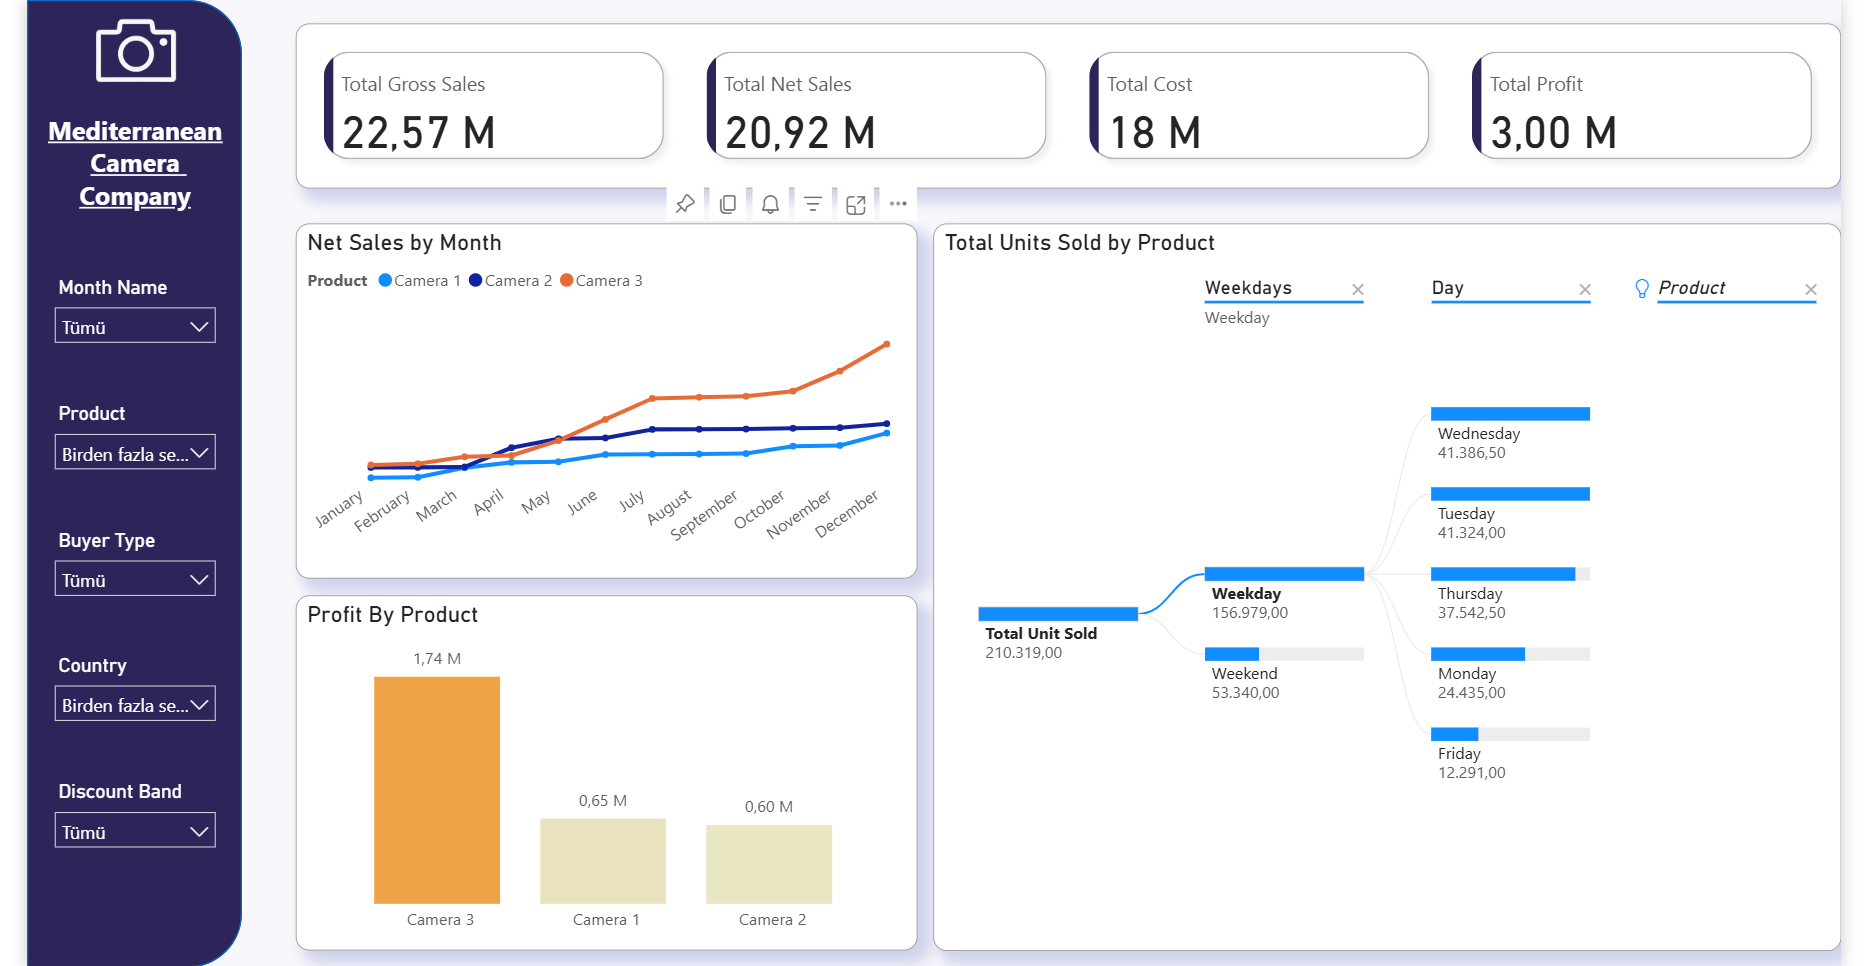

The dashboard page shown, as its layout file describes it:
{"tool":"powerbi","page":{"name":"Detail View","canvas":[1350,720],"ordinal":1},"visuals":[{"type":"shape","box":[0,0,160,720],"z":0},{"type":"cardVisual","fields":{"Data":["Measure_.Total Gross Sales","Measure_.Total Net Sales","Measure_.Total Cost","Measure_.Total Profit"]},"box":[200,17.1,1150,122.9],"z":1000},{"type":"lineChart","title":"Net Sales by Month","fields":{"Category":["Calendar.Date.Variation.Date Hierarchy.Month"],"Y":["Measure_.Net Sales YTD"],"Series":["Mediterranean Cameras Company.Product"]},"box":[200,165.7,462.9,264.3],"z":2000},{"type":"columnChart","title":"Profit By Product","fields":{"Category":["Mediterranean Cameras Company.Product"],"Y":["Measure_.Total Profit"]},"box":[200,442.9,462.9,264.3],"z":5000},{"type":"decompositionTreeVisual","title":"Total Units Sold by Product","fields":{"ExplainBy":["Calendar.Weekday - Weekend","Calendar.Day Name","Mediterranean Cameras Company.Product"],"Analyze":["Measure_.Total Unit Sold"]},"box":[674.3,165.7,675.7,541.4],"z":6000},{"type":"slicer","fields":{"Values":["Calendar.Month Name"]},"box":[10,200,140,70],"z":8000},{"type":"slicer","fields":{"Values":["Mediterranean Cameras Company.Product"]},"box":[10,293.9,140,70],"z":9000},{"type":"slicer","fields":{"Values":["Mediterranean Cameras Company.Buyer Type"]},"box":[10,387.9,140,70],"z":10000},{"type":"slicer","fields":{"Values":["Mediterranean Cameras Company.Country"]},"box":[10,481.8,140,70],"z":11000},{"type":"slicer","fields":{"Values":["Mediterranean Cameras Company.Discount Band"]},"box":[10,575.7,140,70],"z":12000},{"type":"image","box":[41.4,0,78.6,78.6],"z":13000},{"type":"textbox","box":[10,78.6,140,87.1],"z":14000}]}

Visuals, with their boxes on the page's 1350x720 design canvas (x1, y1, x2, y2). These are canvas units, not pixel positions in the 1867x966 screenshot, which may show the page scaled, cropped or inside an application window:
shape: rect(0, 0, 160, 720)
cardVisual - Measure_.Total Gross Sales x Measure_.Total Net Sales: rect(200, 17, 1350, 140)
"Net Sales by Month" lineChart: rect(200, 166, 663, 430)
"Profit By Product" columnChart: rect(200, 443, 663, 707)
"Total Units Sold by Product" decompositionTreeVisual: rect(674, 166, 1350, 707)
slicer - Calendar.Month Name: rect(10, 200, 150, 270)
slicer - Mediterranean Cameras Company.Product: rect(10, 294, 150, 364)
slicer - Mediterranean Cameras Company.Buyer Type: rect(10, 388, 150, 458)
slicer - Mediterranean Cameras Company.Country: rect(10, 482, 150, 552)
slicer - Mediterranean Cameras Company.Discount Band: rect(10, 576, 150, 646)
image: rect(41, 0, 120, 79)
textbox: rect(10, 79, 150, 166)
